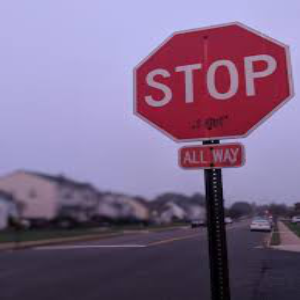STOP_SIGN: (132, 20, 294, 143)
